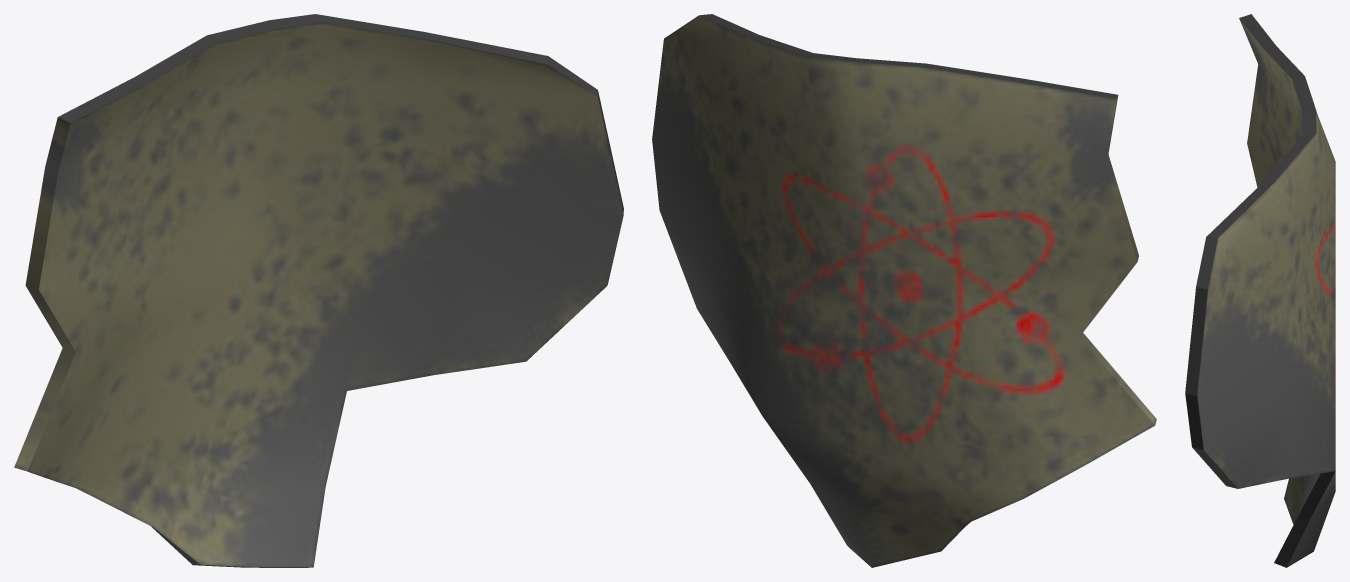
Rendered from FlyingDebri1.fbx.
3 views of the same model, side by side, from view 1: azimuth 30°, elevation 25°; view 2: azimuth 150°, elevation 25°; view 3: azimuth 270°, elevation 25° (orthographic). The views are drawn at different scales.
Parts seen in each view (by area): view 1: FlyingDebri1; view 2: FlyingDebri1; view 3: FlyingDebri1.
Part boxes in pixels (<box>): FlyingDebri1: <box>14,14,623,567</box>; FlyingDebri1: <box>652,14,1156,567</box>; FlyingDebri1: <box>1185,14,1335,567</box>.
Bounding box in the file's own units: 0.0808 × 0.0733 × 0.0219.
Materials: 1 (1 with a texture image).
